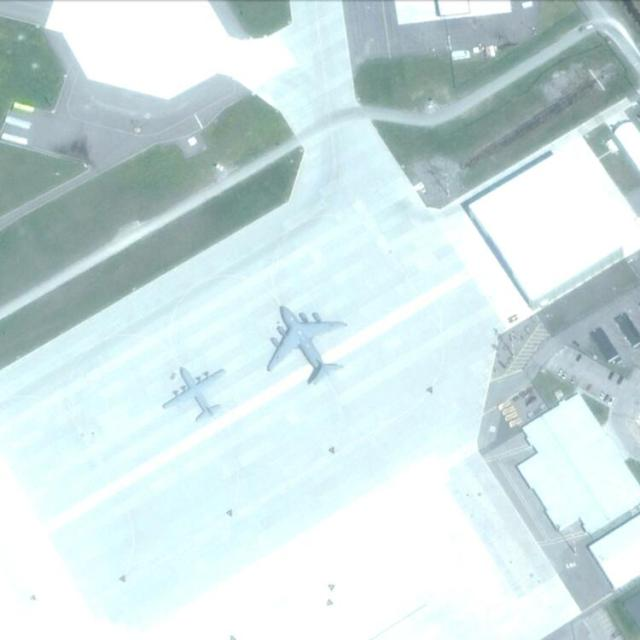fighter jet: (268, 304, 339, 382), (170, 364, 227, 420)
